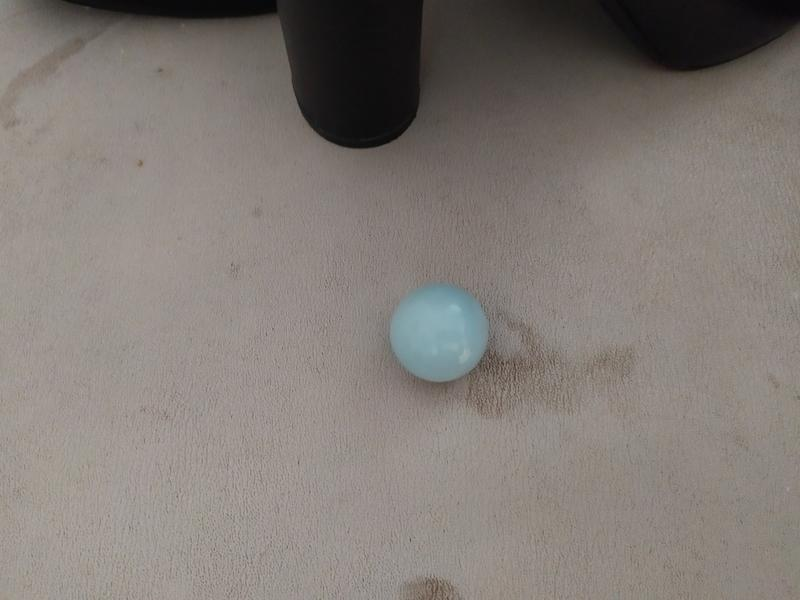Warning: (386, 277, 494, 385)
